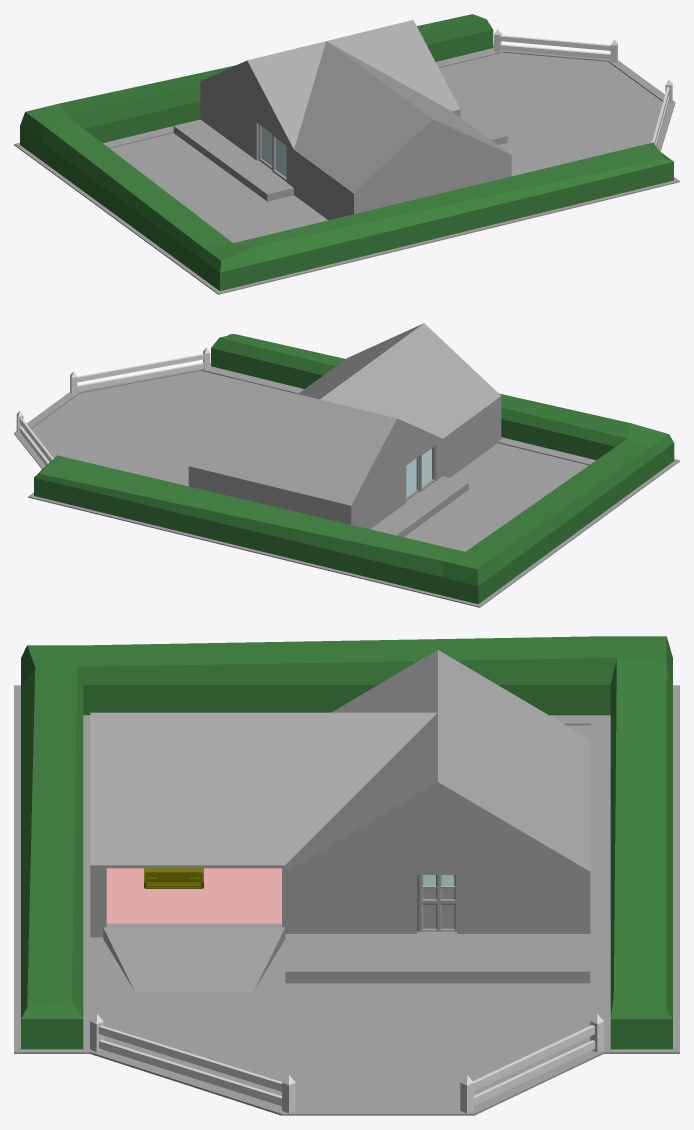
File: KrustyHouse.fbx
The picture shows the model from 3 angles, top to bottom: view 1: azimuth 30°, elevation 25°; view 2: azimuth 150°, elevation 25°; view 3: azimuth 270°, elevation 25°; orthographic projection. The views are drawn at different scales.
Parts seen in each view (by area): view 1: LeafyBushBoarder, RoofHouse1, Driveway1, House1, WhitePicketFencePost2, BackGlassDoor; view 2: LeafyBushBoarder, RoofHouse1, Driveway1, House1, WhitePicketFencePostAlpha, BackGlassDoor, WhitePicketFencePost2; view 3: LeafyBushBoarder, RoofHouse1, Driveway1, House1, WhitePicketFencePostAlpha, WhitePicketFencePost2, FrontDoor1, CarBody.
Boxes of the visible parts, x1,y1,x2,y2 form: LeafyBushBoarder: [14, 14, 679, 294]; RoofHouse1: [200, 20, 510, 193]; Driveway1: [105, 50, 675, 242]; House1: [173, 81, 553, 220]; WhitePicketFencePost2: [500, 35, 617, 62]; BackGlassDoor: [258, 124, 286, 181]; LeafyBushBoarder: [28, 334, 679, 607]; RoofHouse1: [189, 323, 500, 505]; Driveway1: [14, 368, 593, 551]; House1: [159, 396, 501, 537]; WhitePicketFencePostAlpha: [77, 347, 210, 391]; BackGlassDoor: [406, 444, 435, 500]; WhitePicketFencePost2: [16, 411, 53, 465]; LeafyBushBoarder: [14, 636, 679, 1053]; RoofHouse1: [90, 650, 590, 871]; Driveway1: [90, 718, 603, 1115]; House1: [90, 865, 590, 992]; WhitePicketFencePostAlpha: [90, 1014, 281, 1105]; WhitePicketFencePost2: [460, 1025, 595, 1113]; FrontDoor1: [417, 875, 456, 931]; CarBody: [145, 868, 202, 888].
Bounding box in the file's own units: 290 × 51.56 × 190.
